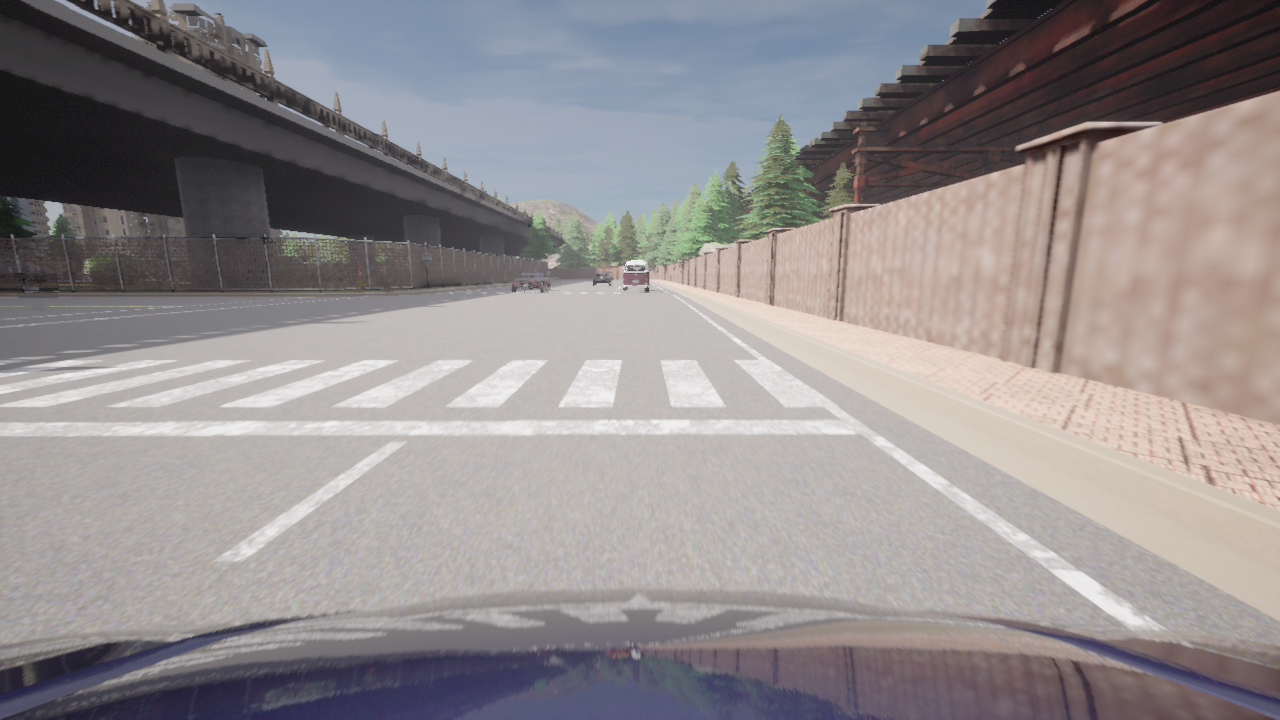cyclist: (0, 588, 1279, 719), (510, 271, 549, 292), (624, 262, 651, 291), (592, 270, 612, 286)
pedestrian: (354, 261, 367, 291), (357, 276, 365, 296)
